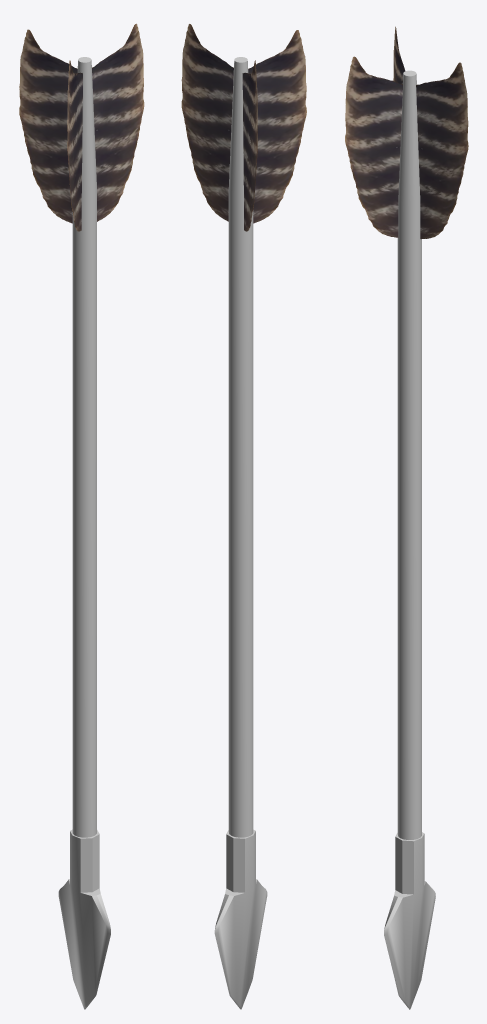
The model's file is Arrow.fbx.
3 renders of one model, left to right at view 1: azimuth 30°, elevation 25°; view 2: azimuth 150°, elevation 25°; view 3: azimuth 330°, elevation 25°, orthographic.
Parts seen in each view (by area): view 1: Cube, Pijlveer.001; view 2: Cube, Pijlveer.001; view 3: Cube, Pijlveer.001.
Part boxes in pixels (x1,y1,x2,y2): Cube: [58, 57, 110, 1009]; Pijlveer.001: [19, 23, 144, 231]; Cube: [214, 57, 267, 1009]; Pijlveer.001: [181, 24, 306, 231]; Cube: [384, 70, 435, 1009]; Pijlveer.001: [345, 26, 468, 238].
Size of the model in its own units: 6.49 by 55.85 by 5.44.
